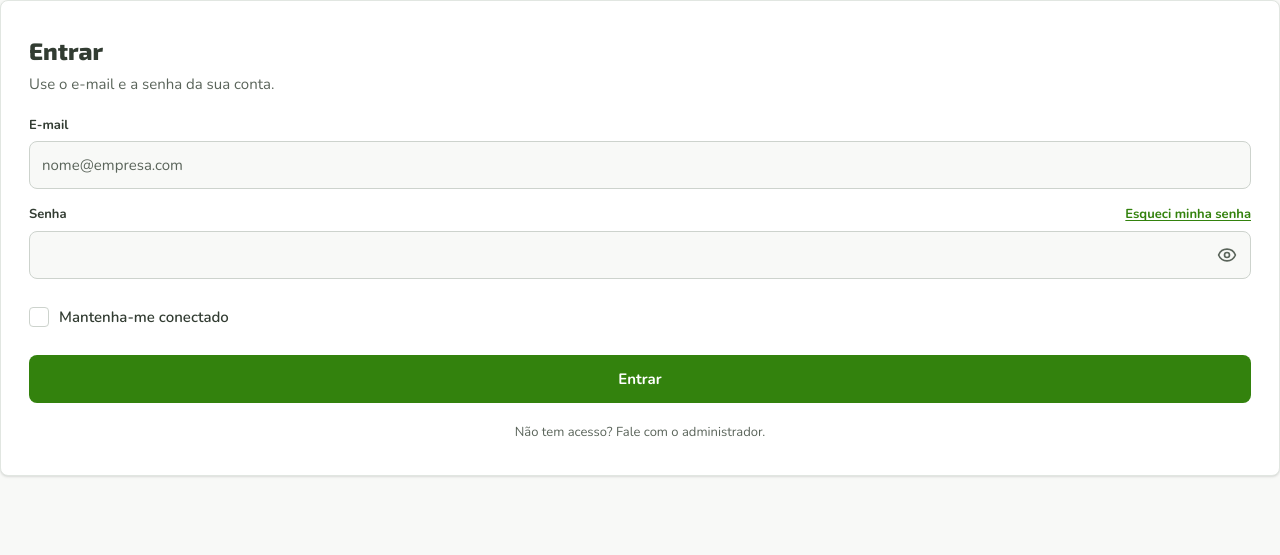
Test: LoginForm › shows the credentials error on 422 and does not navigate
Type "a@b.co" into the field labelled "E-mail" at {"x": 640, "y": 165}, box 29,141 -> 1251,189
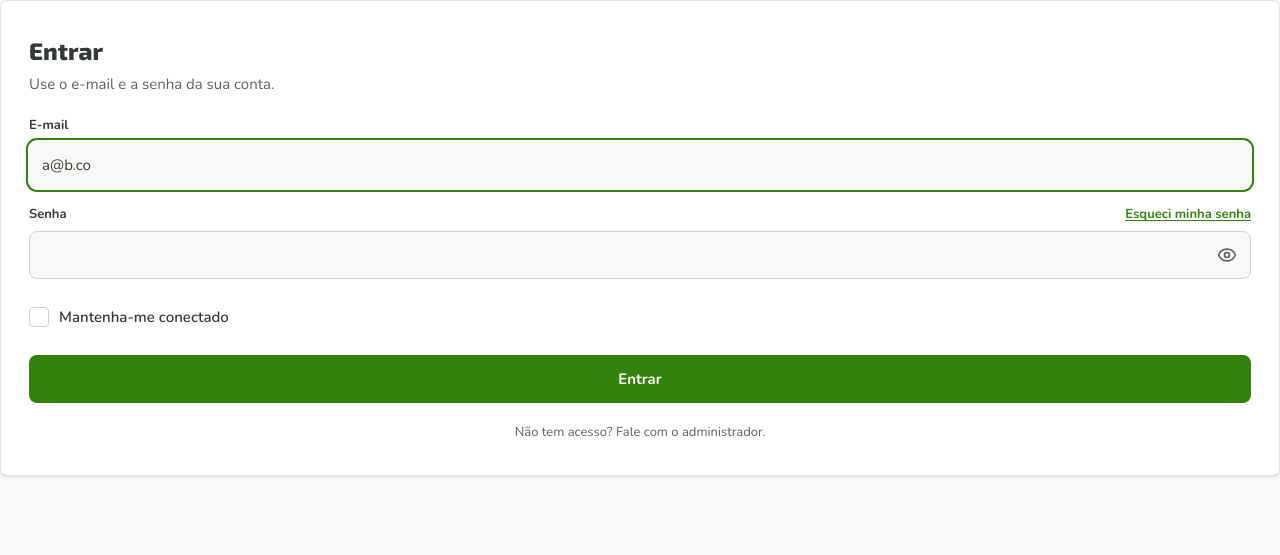
Type "secret" into the password field labelled "Senha" at {"x": 640, "y": 255}, box 29,231 -> 1251,279
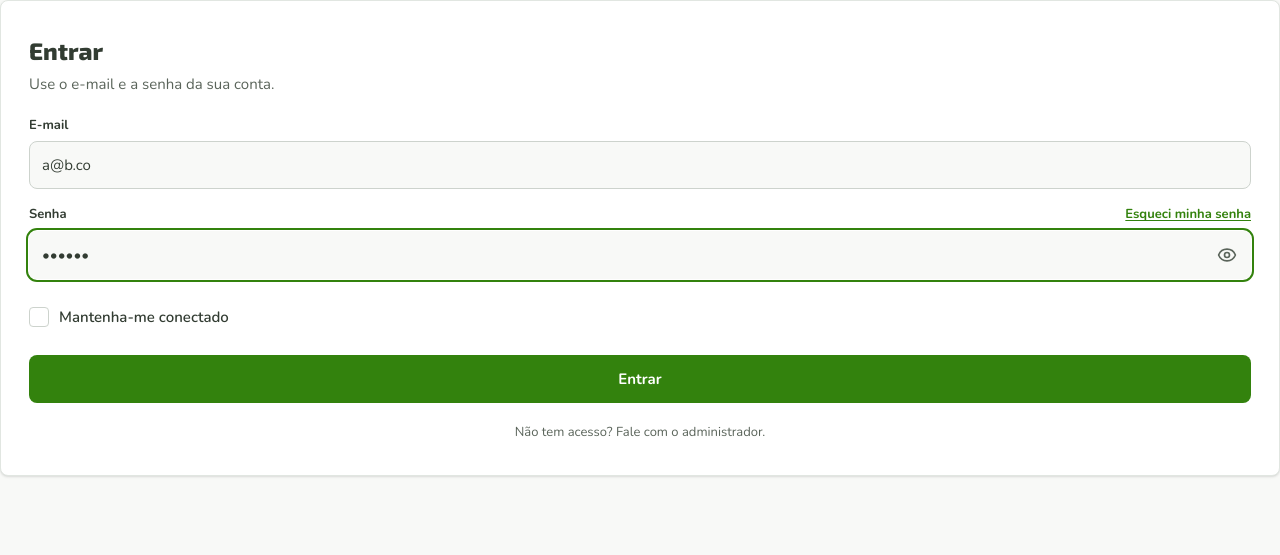
Click the button "Entrar" at {"x": 640, "y": 379}, box 29,355 -> 1251,403
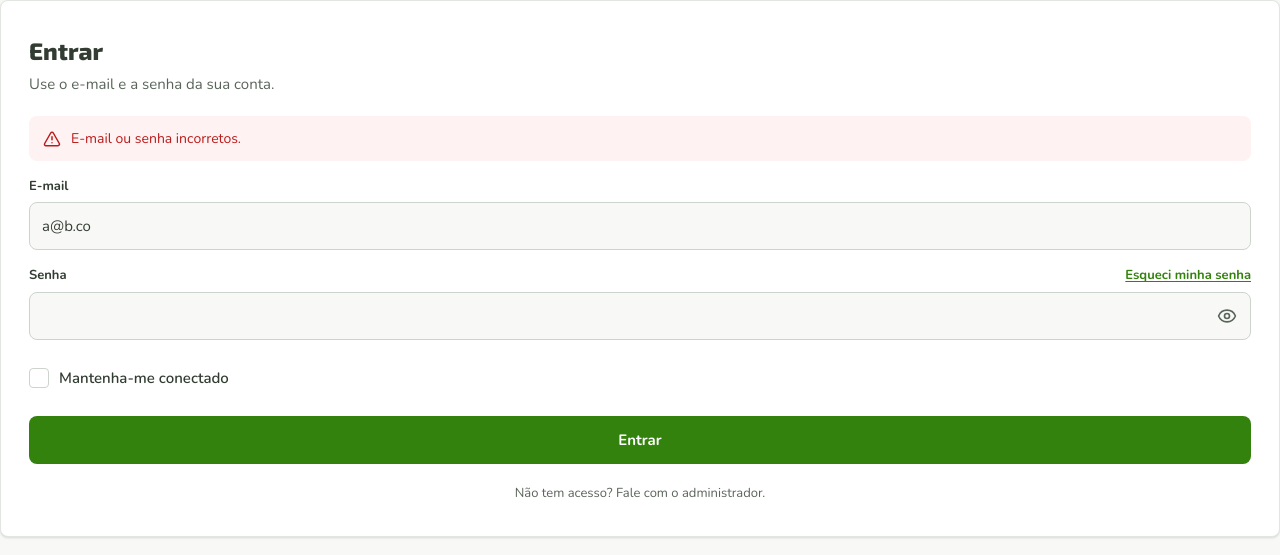
Result: the text "E-mail ou senha incorretos." is shown at 71,128 -> 241,148
Result: the password field labelled "Senha" is empty at 29,292 -> 1251,340
